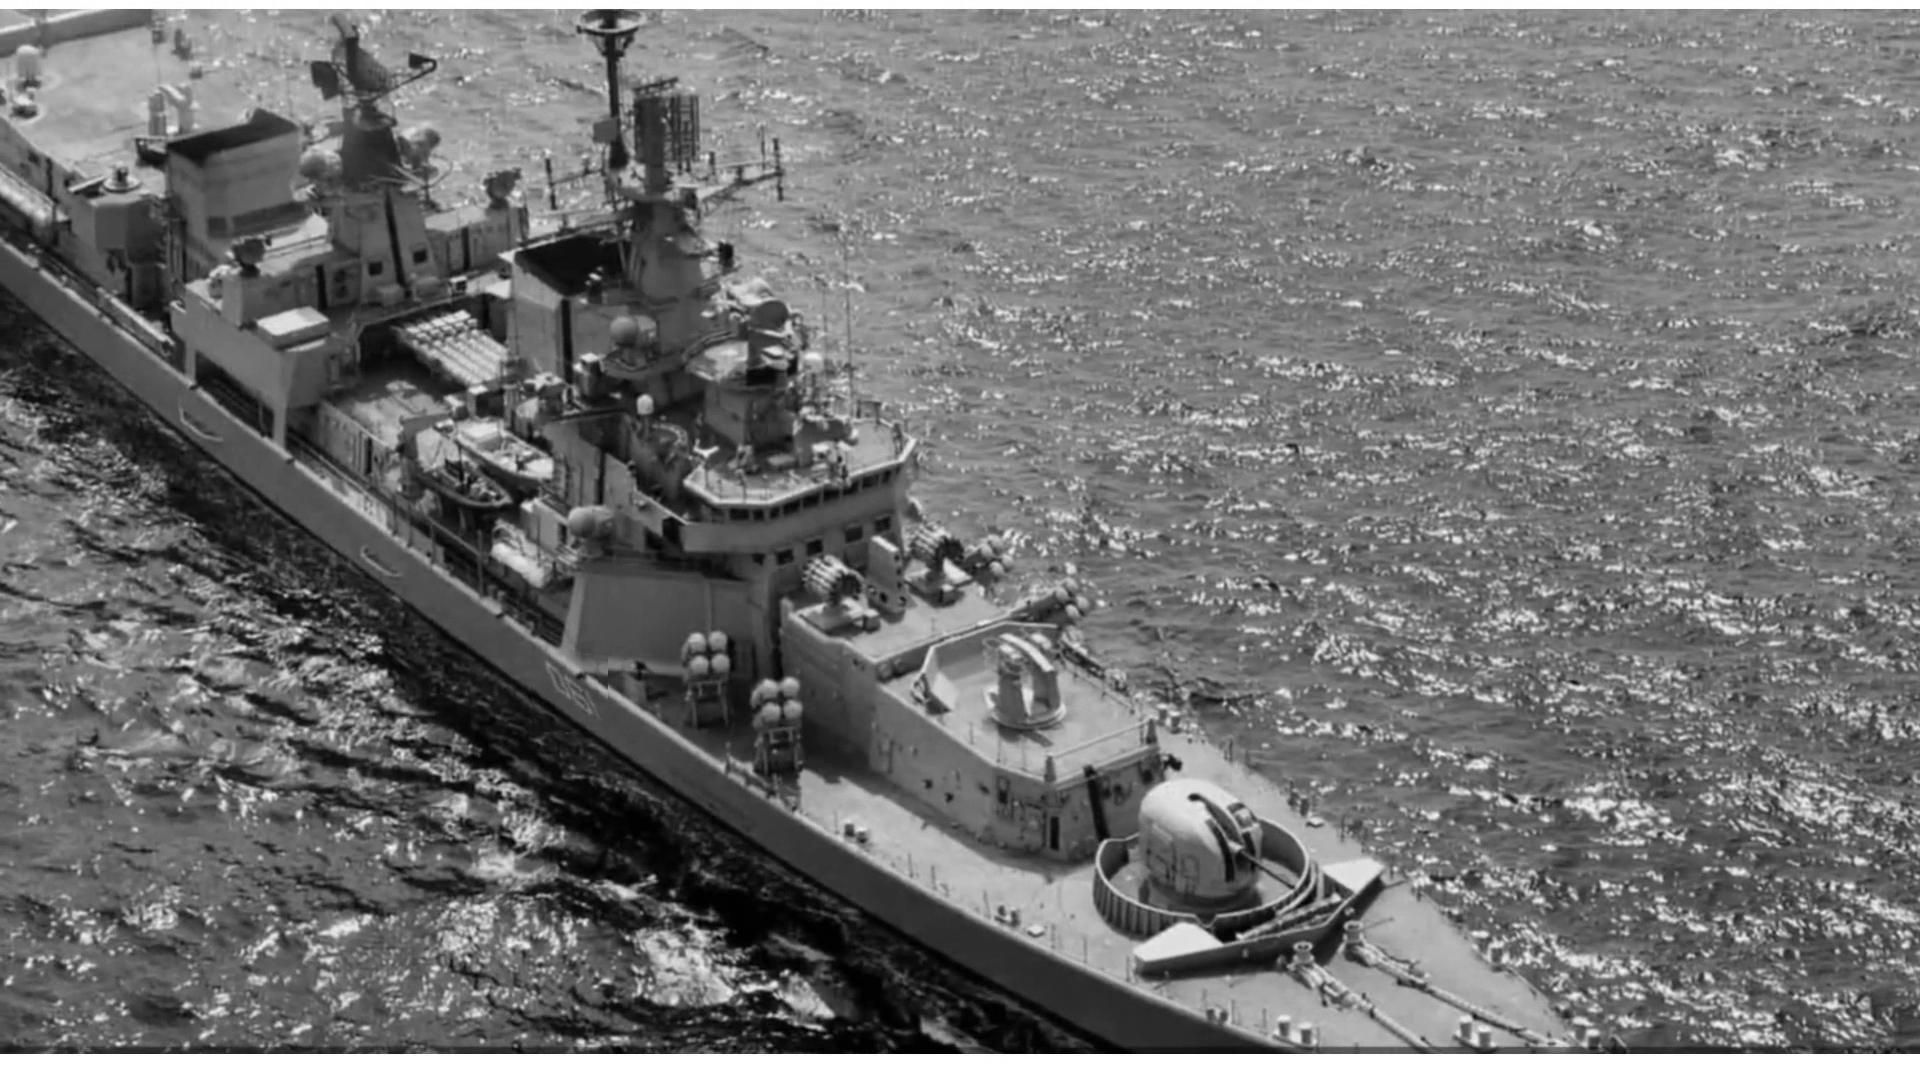OCR: (528, 651, 608, 732)
